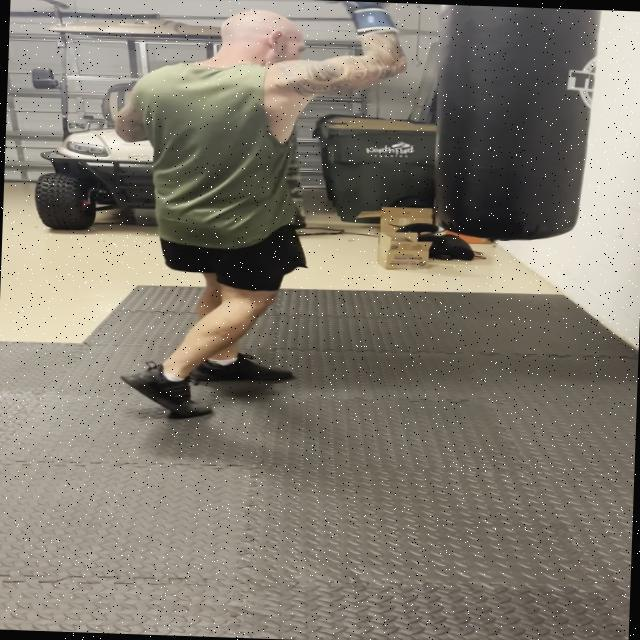bag: (430, 4, 599, 245)
uppercut: (152, 0, 415, 145)
